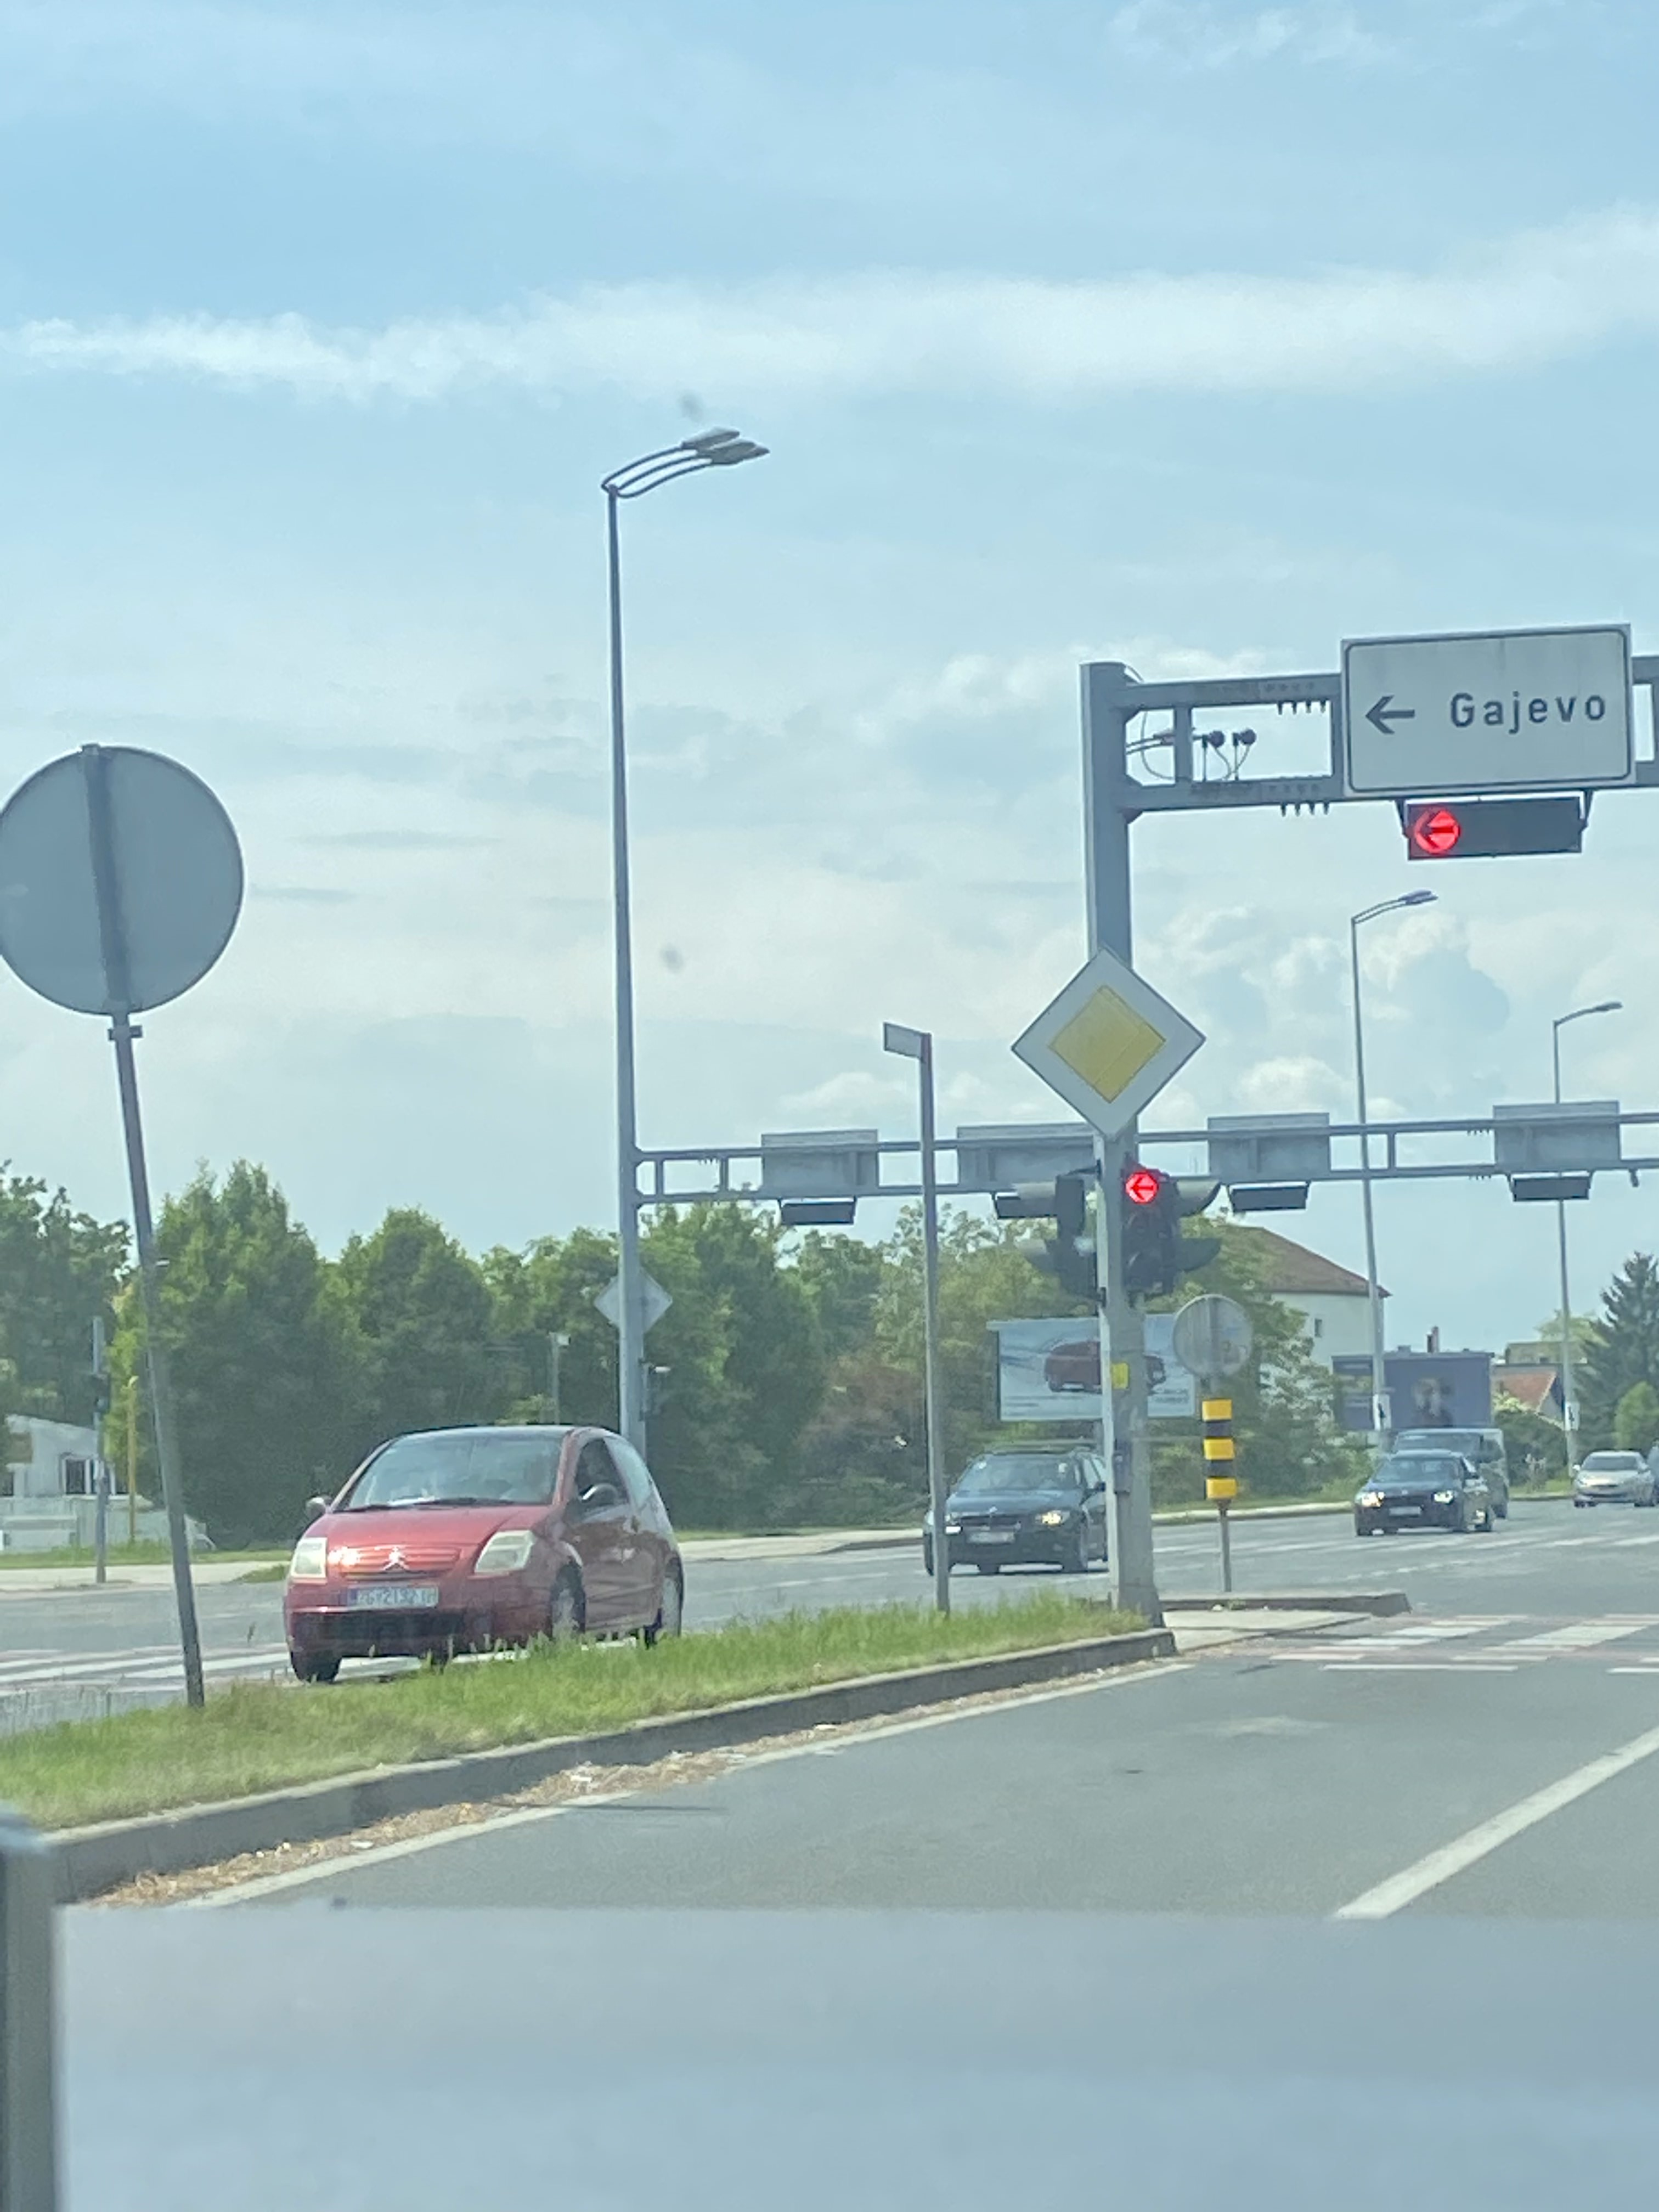Cesta s prednošću prolaska: (1009, 942, 1209, 1141)
